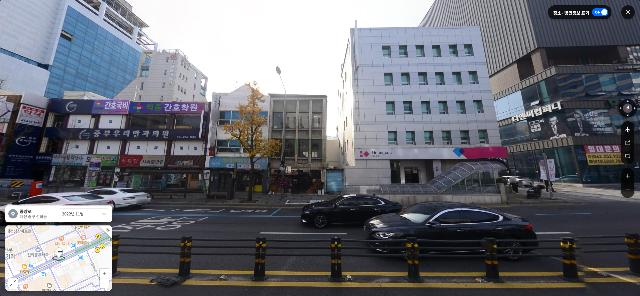ginkgo: (221, 81, 282, 202)
